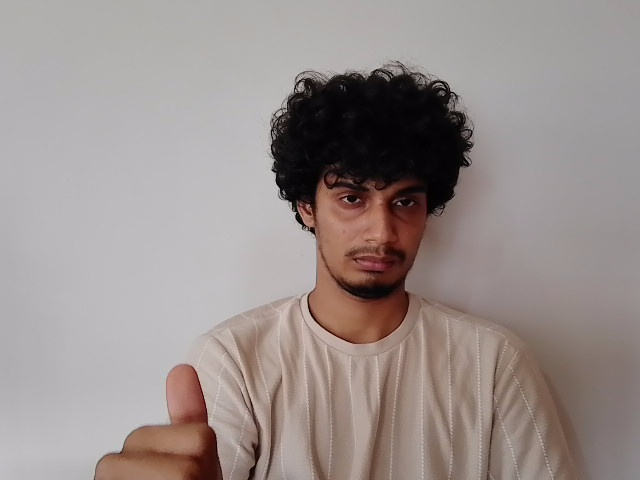how: (80, 362, 237, 480)
